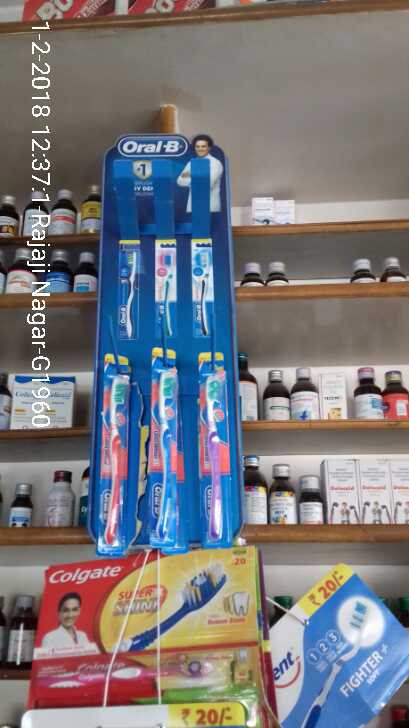oralb: (96, 353, 133, 557), (196, 351, 232, 545), (147, 346, 177, 548)
